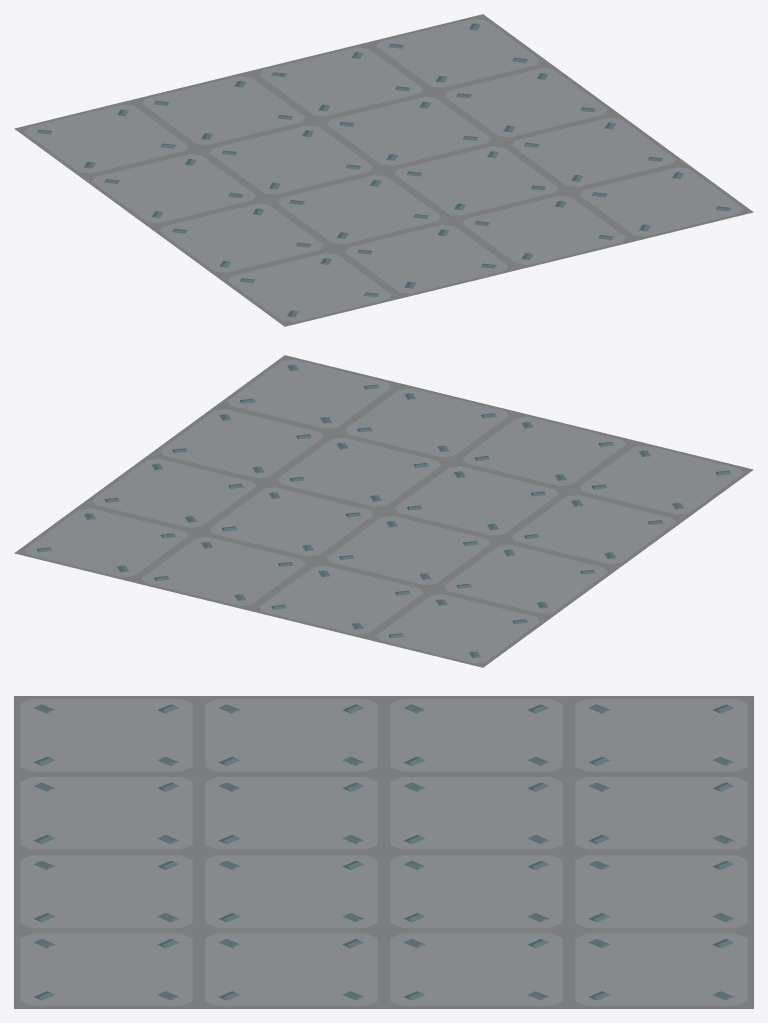
File: Floor_type_B_006.fbx
3 renders of one model, top to bottom at view 1: azimuth 30°, elevation 25°; view 2: azimuth 150°, elevation 25°; view 3: azimuth 270°, elevation 25°, orthographic. The views are drawn at different scales.
Parts seen in each view (by area): view 1: Floor_type_B_006; view 2: Floor_type_B_006; view 3: Floor_type_B_006.
Boxes of the visible parts, x1,y1,x2,y2 form: Floor_type_B_006: (14,14,753,326); Floor_type_B_006: (14,355,753,667); Floor_type_B_006: (14,696,753,1008).
Bounding box in the file's own units: 400 × 400 × 0.8.
